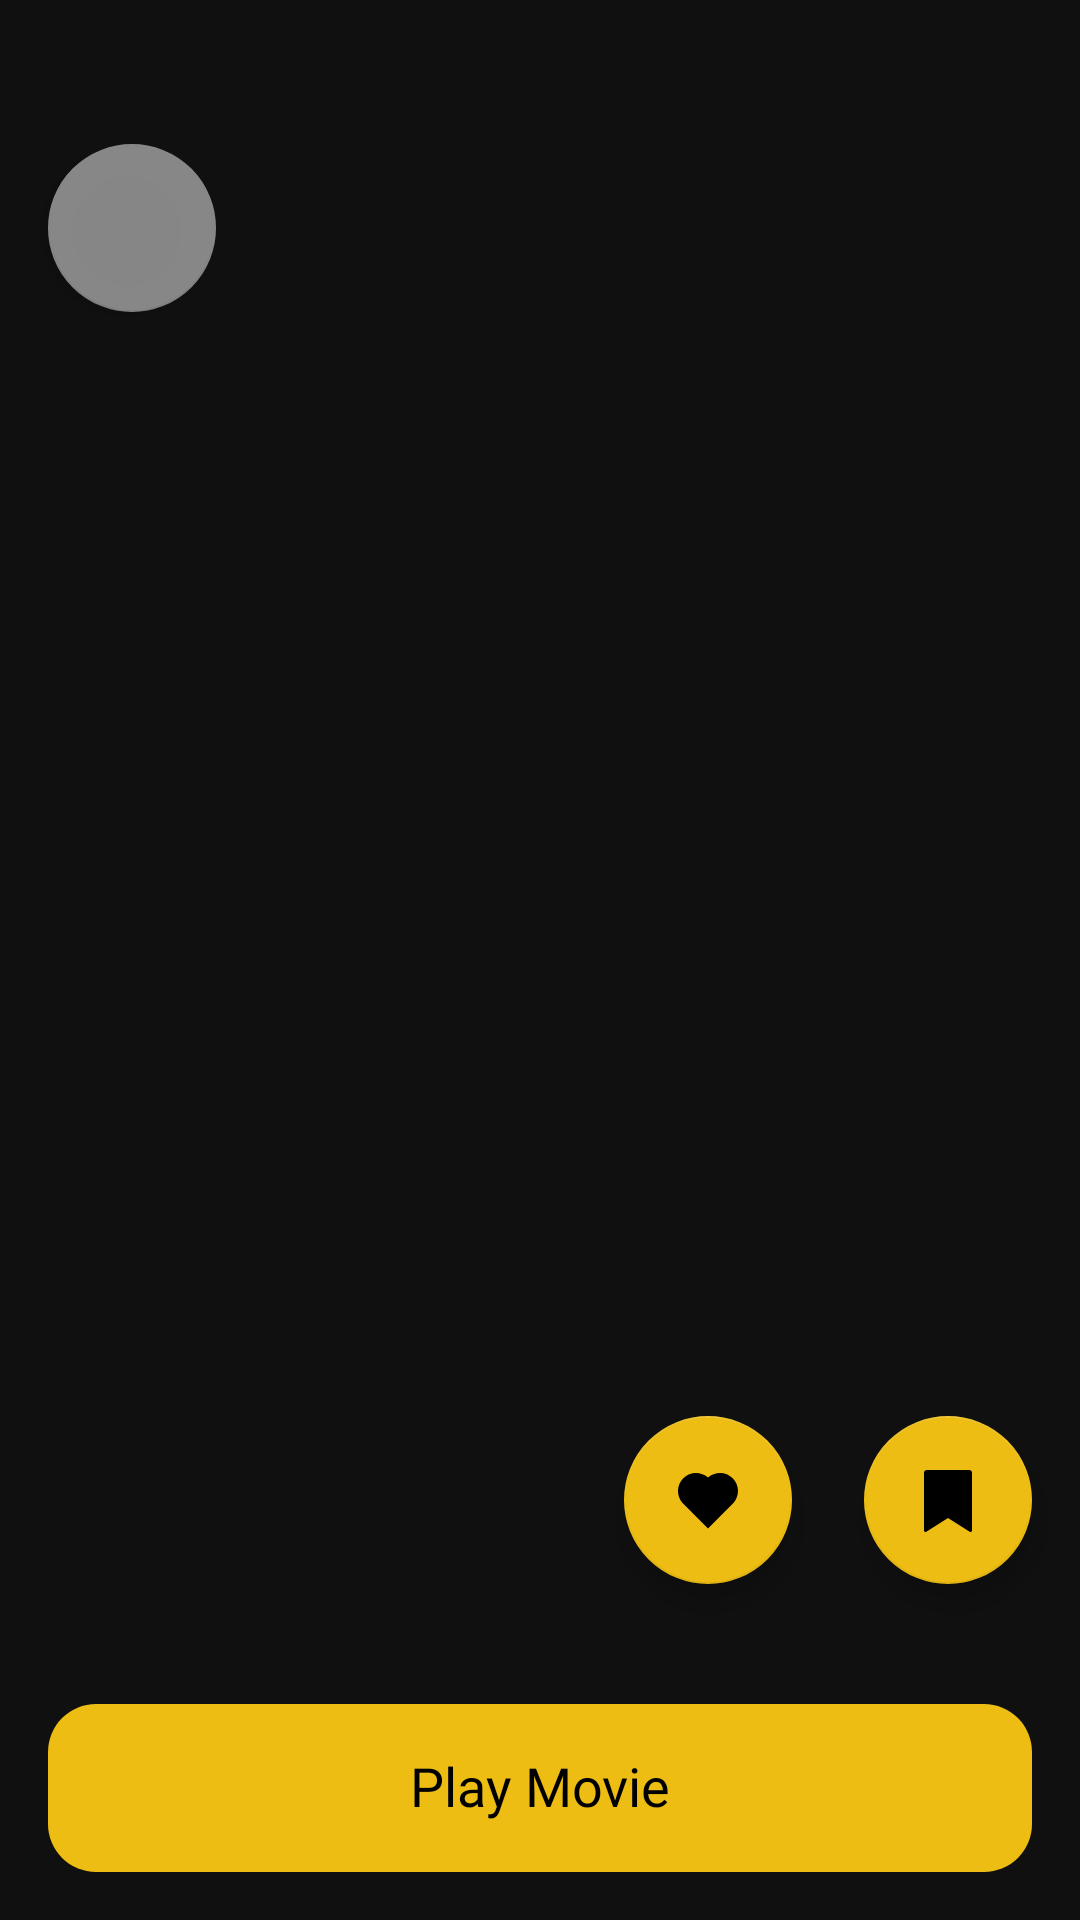

Where to tap for icons on this 1080*1920 app screen, as [x,y]:
favorite: [708,1500]
watchlist: [948,1500]
